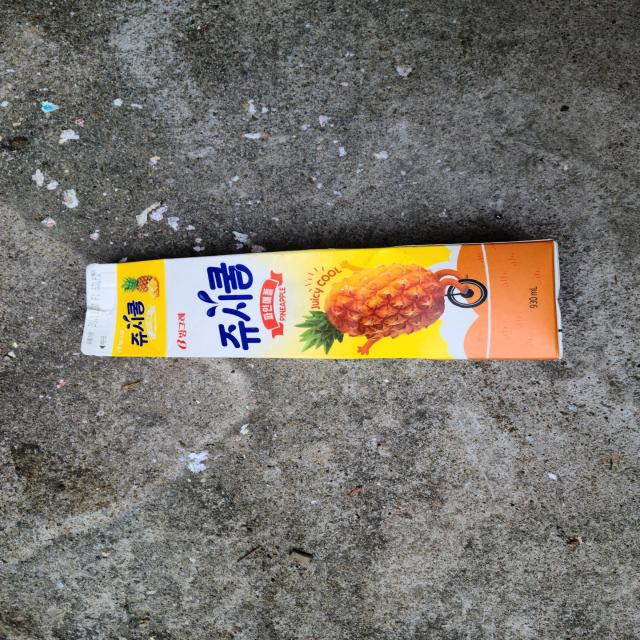paperpack: (80, 240, 563, 360)
